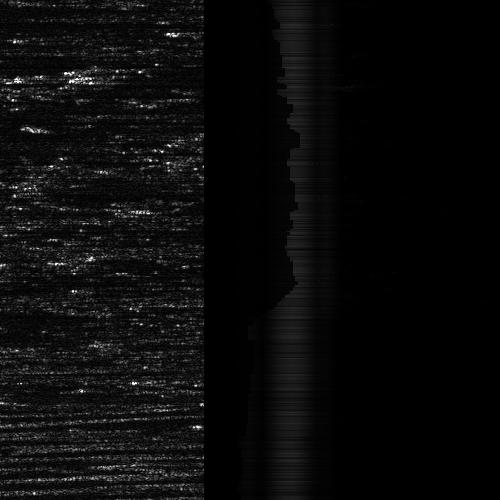rock: (2, 123, 55, 128)
shadow: (29, 123, 116, 128)
